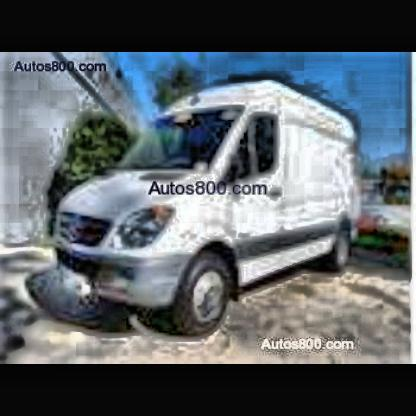Dodge Sprinter Cargo Van 2009: (54, 80, 364, 343)
